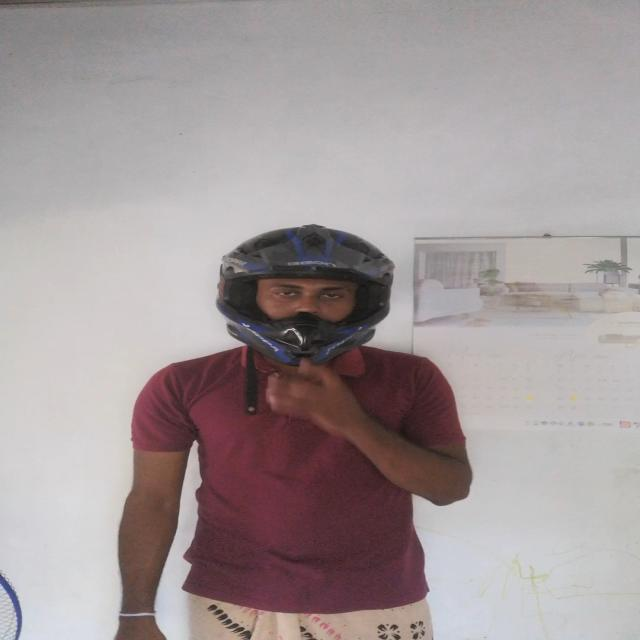Helmet_Wearer: (202, 216, 426, 392)
